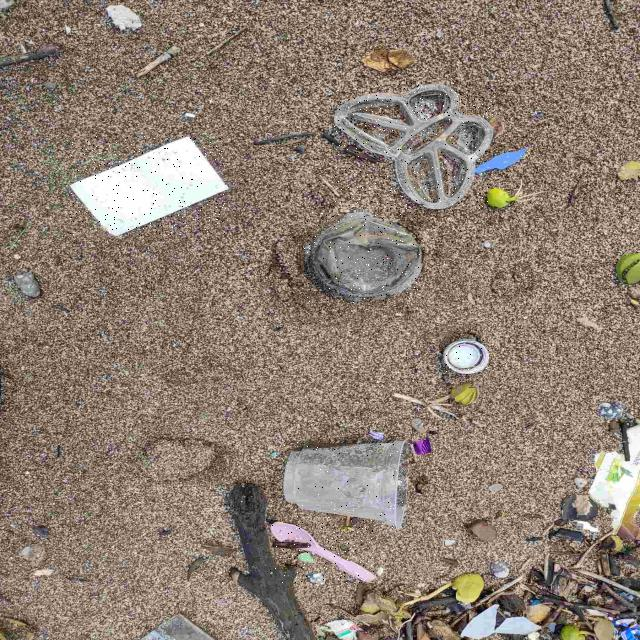paper: (70, 136, 226, 235), (590, 424, 640, 539)
plastic: (334, 83, 494, 208), (305, 211, 421, 303), (284, 442, 405, 528), (271, 523, 375, 582), (443, 340, 489, 373)
